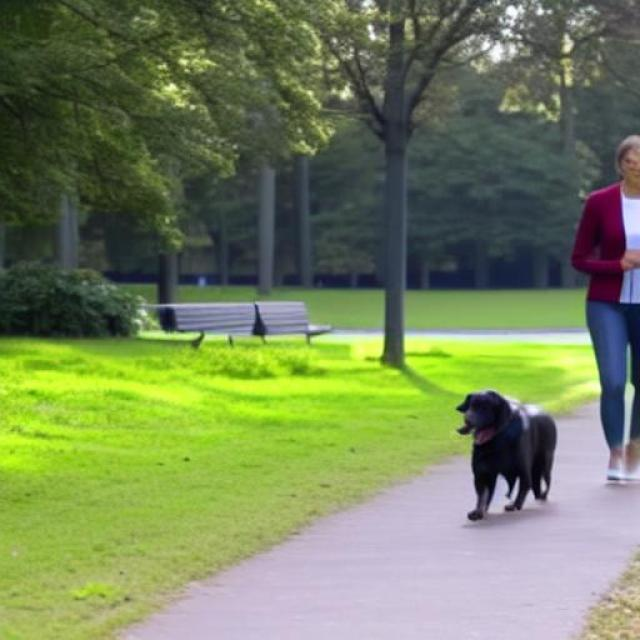Unleashed_Dog: (455, 282, 640, 522)
